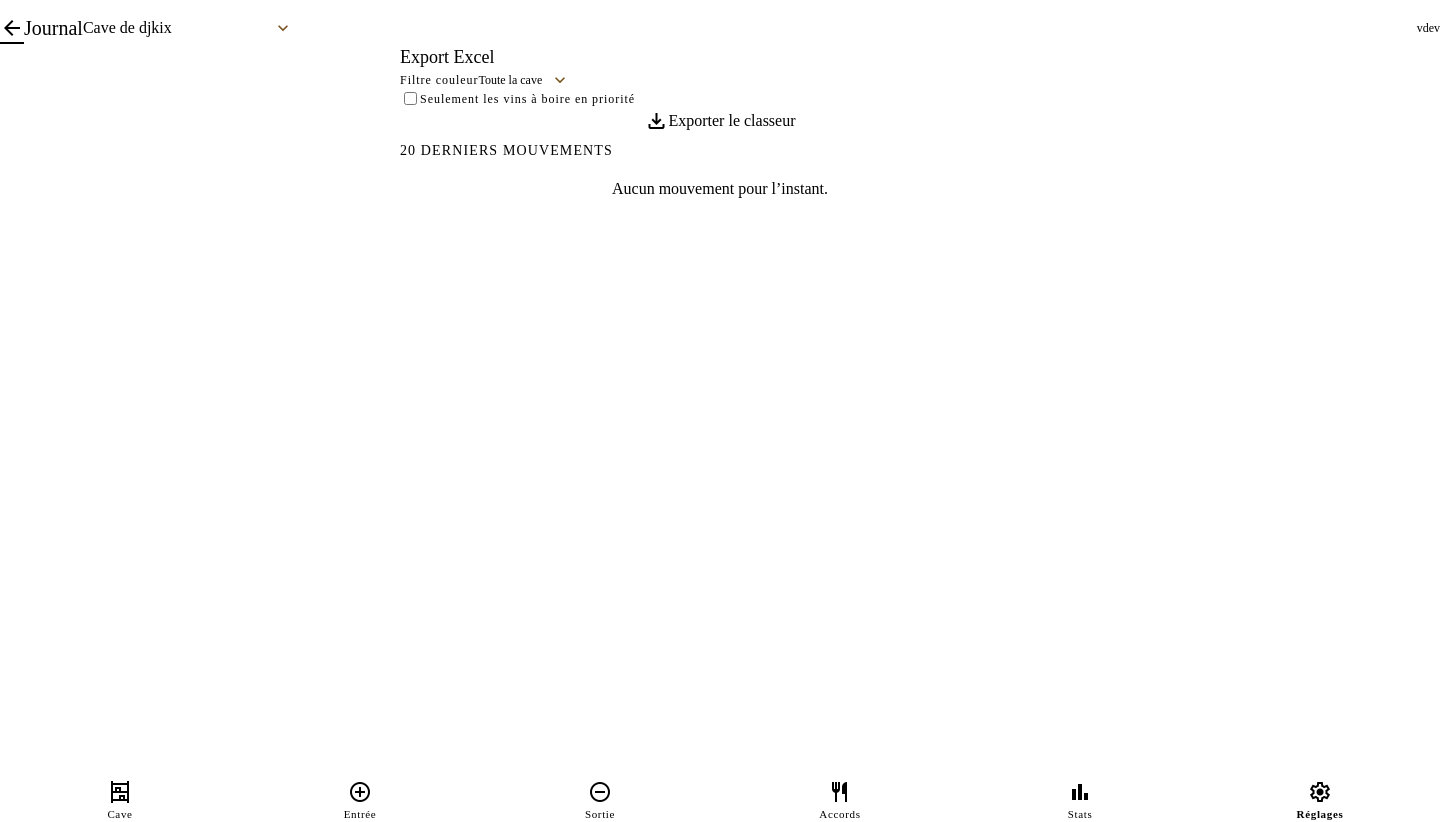
changement de cave › quitte le journal vers une cave en lecture sans relancer le journal
This screenshot has width=1452, height=822.
Select "Cave de Paul · Lecture seule" in the dropdown named "Cave" at coordinates (191, 28), box [83,12,299,44]
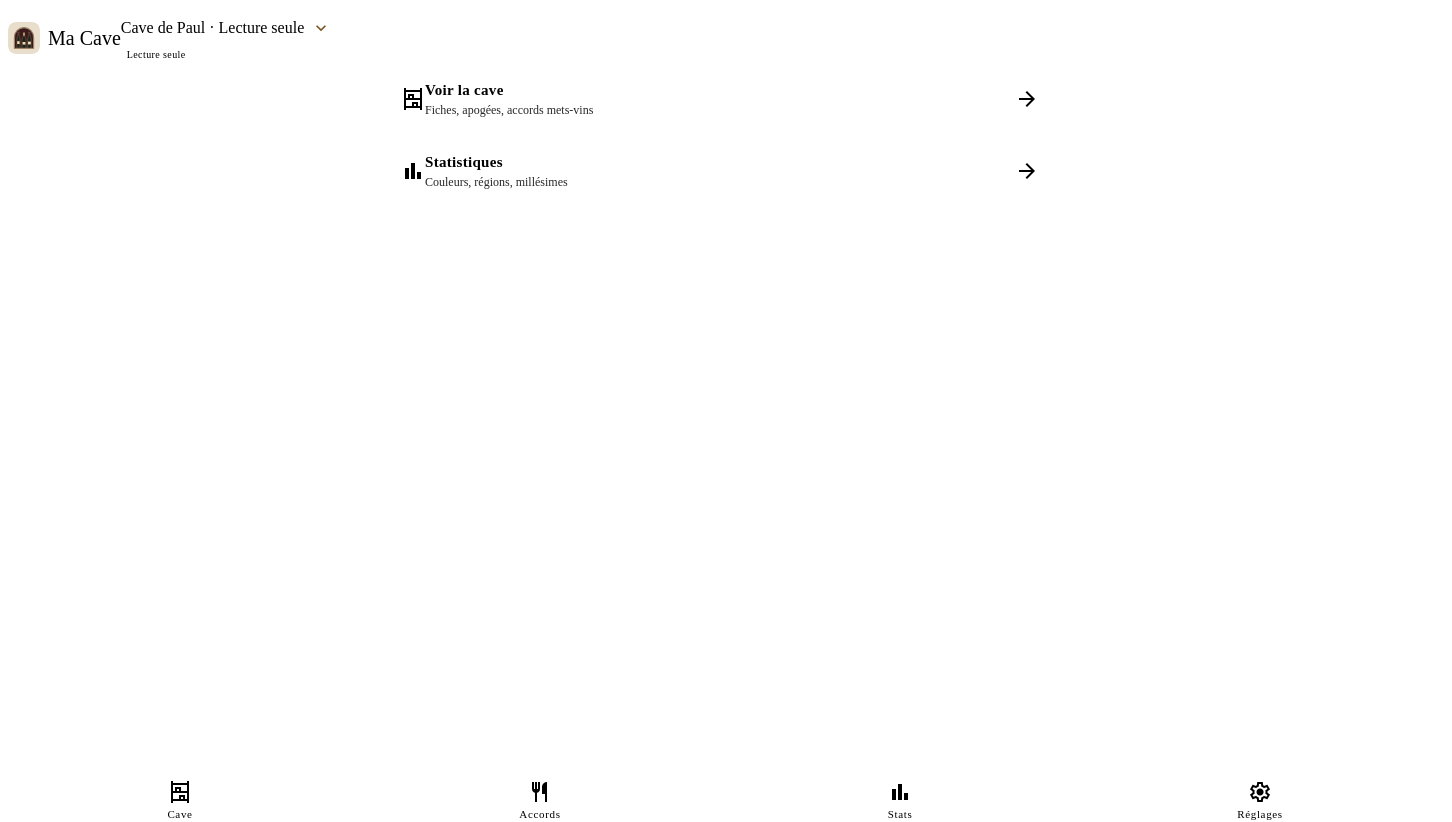
Expected: the text "Lecture seule" is shown, [127,49,186,60]
